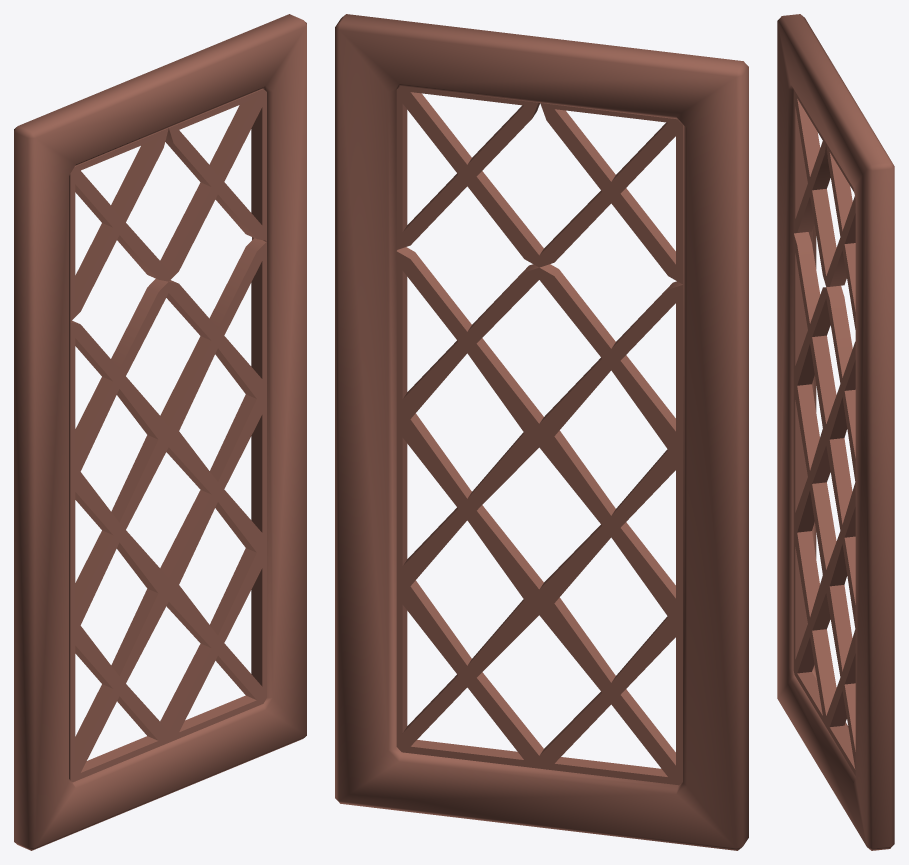
File: Farmhouse_ROOM_window02_v01.glb
3 renders of one model, left to right at view 1: azimuth 30°, elevation 25°; view 2: azimuth 150°, elevation 25°; view 3: azimuth 270°, elevation 25°, orthographic. The views are drawn at different scales.
Visible parts, largest first — view 1: Farmhouse_ROOM_window02_v01; view 2: Farmhouse_ROOM_window02_v01; view 3: Farmhouse_ROOM_window02_v01.
Part boxes in pixels (bbox=[...]): Farmhouse_ROOM_window02_v01: bbox=[14, 14, 306, 850]; Farmhouse_ROOM_window02_v01: bbox=[335, 14, 748, 850]; Farmhouse_ROOM_window02_v01: bbox=[777, 14, 894, 850].
Size of the model in its own units: 0.6066 by 1.26 by 0.1948.
